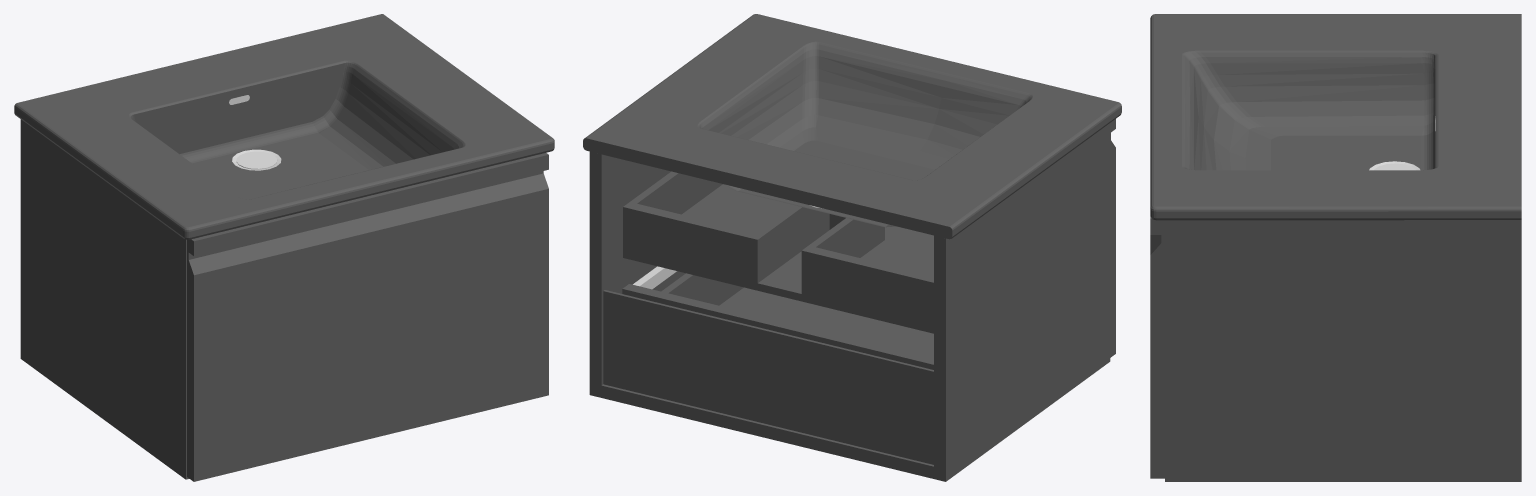
Rendered from AEC_46777.glb.
3 views of the same model, side by side, from view 1: azimuth 30°, elevation 25°; view 2: azimuth 150°, elevation 25°; view 3: azimuth 270°, elevation 25° (orthographic). The views are drawn at different scales.
Parts seen in each view (by area): view 1: 0; view 2: 0; view 3: 0.
Part boxes in pixels (left/top/right/bottom): 0: left=14, top=14, right=554, bottom=481; 0: left=583, top=14, right=1121, bottom=481; 0: left=1150, top=14, right=1521, bottom=481.
Bounding box in the file's own units: 0.6225 × 0.412 × 0.5.
Materials: 1 (1 with a texture image).
